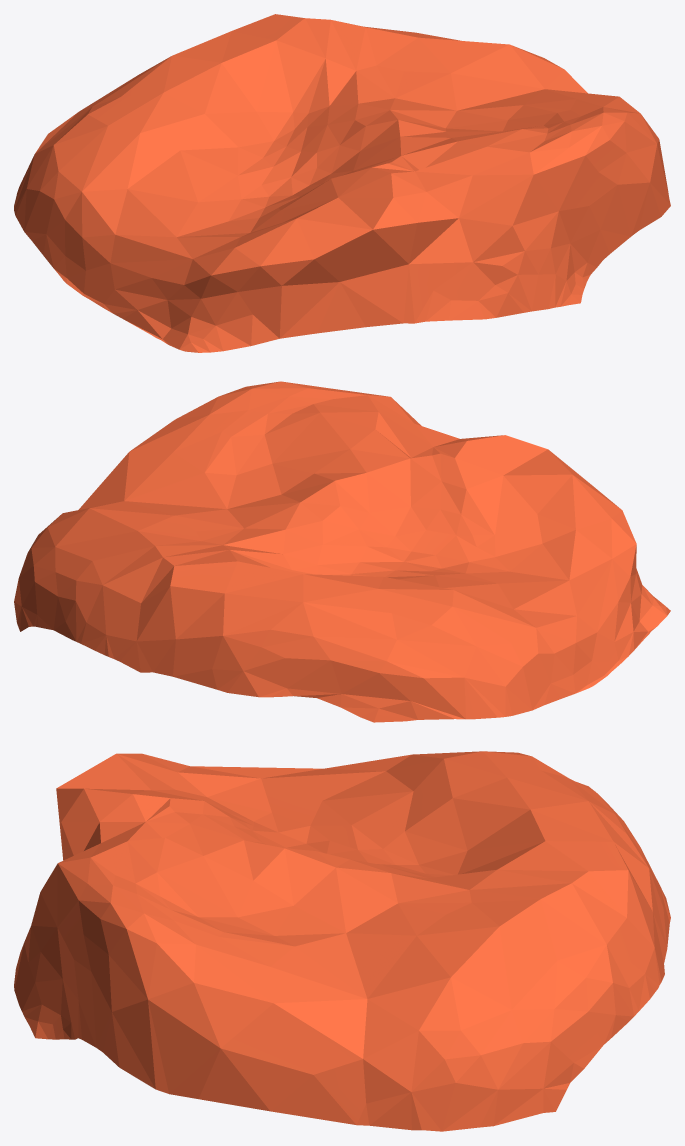
Rendered from ground_028.fbx.
3 renders of one model, top to bottom at view 1: azimuth 30°, elevation 25°; view 2: azimuth 150°, elevation 25°; view 3: azimuth 270°, elevation 25°, orthographic. The views are drawn at different scales.
Parts seen in each view (by area): view 1: ground.028; view 2: ground.028; view 3: ground.028.
Boxes of the visible parts, x1,y1,x2,y2 form: ground.028: (14, 14, 670, 352); ground.028: (14, 381, 670, 722); ground.028: (14, 751, 670, 1131).
Size of the model in its own units: 2544 by 623 by 2226.
1 material, 1 textured.
